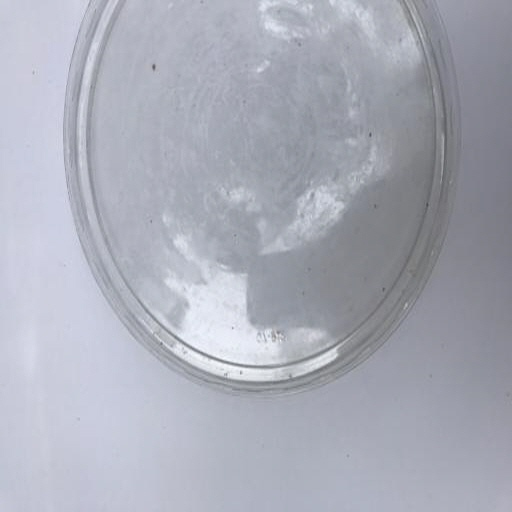Plastic_5: (61, 1, 463, 401)
